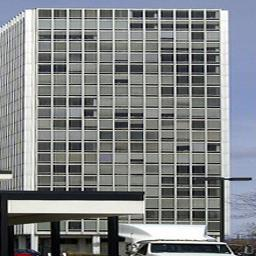building: (25, 8, 231, 241)
